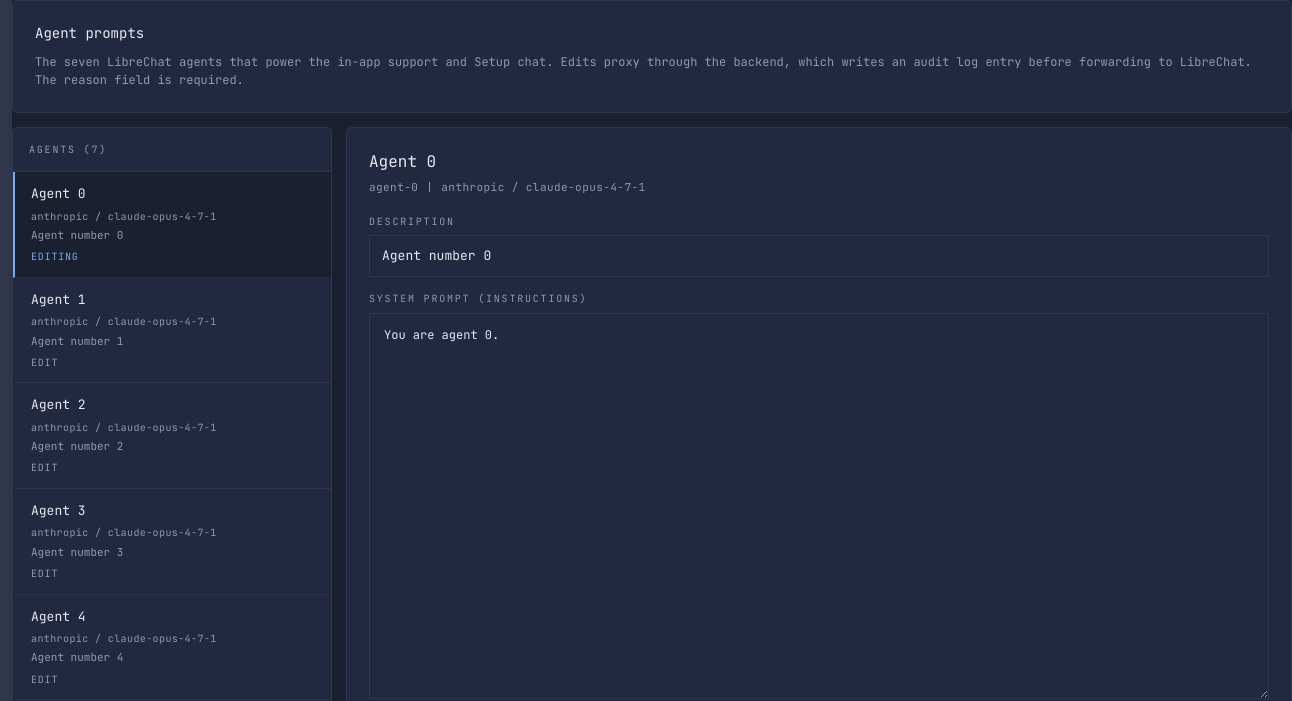
Agents admin page › selecting an agent loads its editor with current values
This screenshot has width=1292, height=701.
Expected: the text box labelled "System prompt (instructions)" holds "You are agent 0.", [369,313,1269,699]
// Switch to a different agent.
Click the button "Agent 3 anthropic / claude-opus-4-7-1 Agent number 3 edit" at (172, 542), box [13,489,331,594]
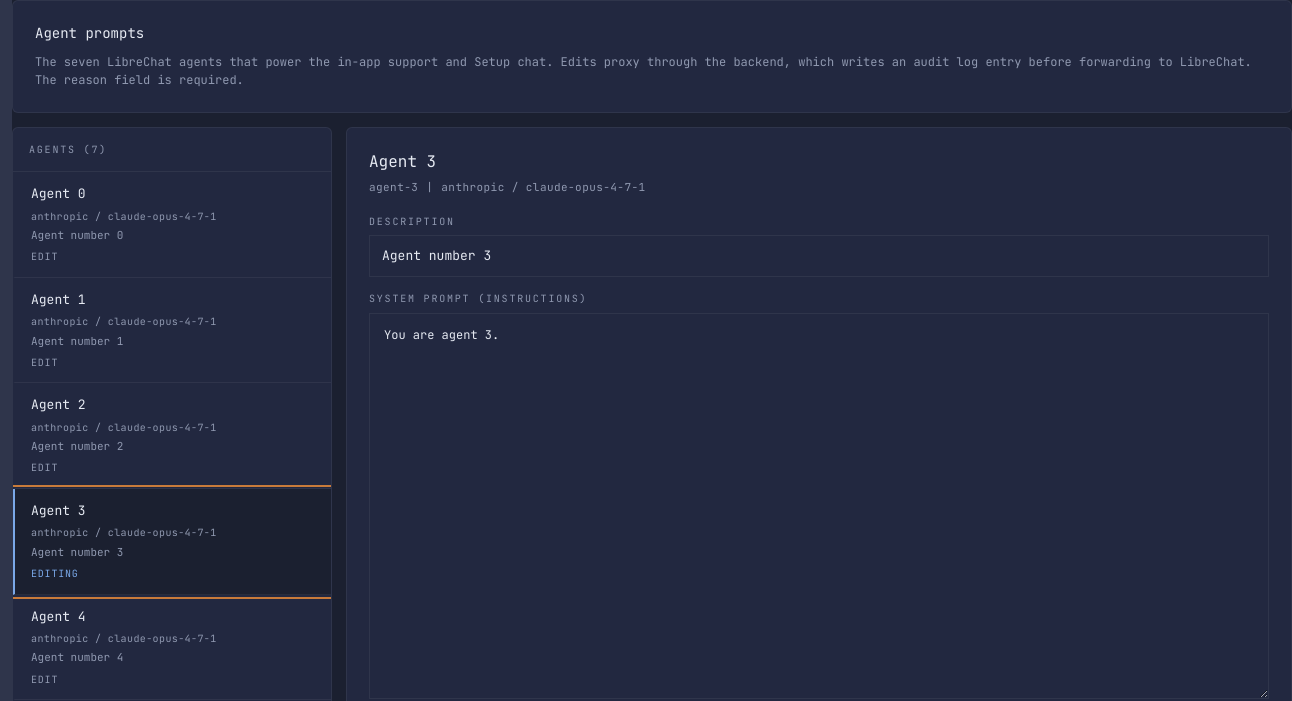
Expected: the text box labelled "System prompt (instructions)" holds "You are agent 3.", [369,313,1269,699]
